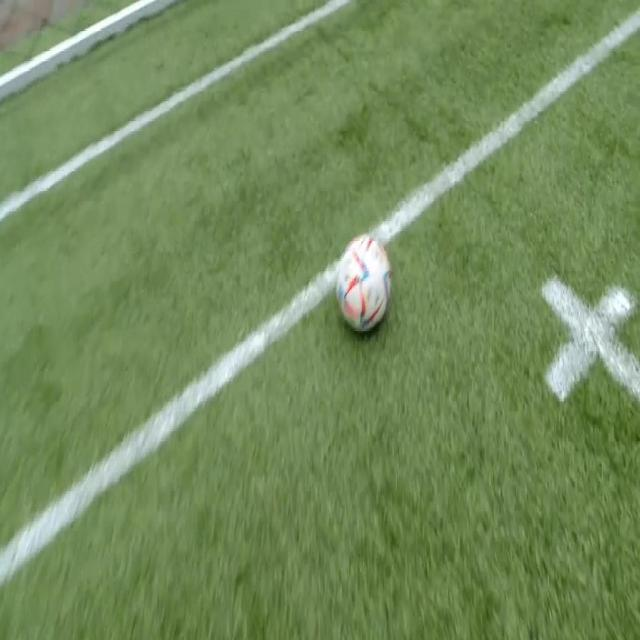ball: (337, 234, 391, 334)
